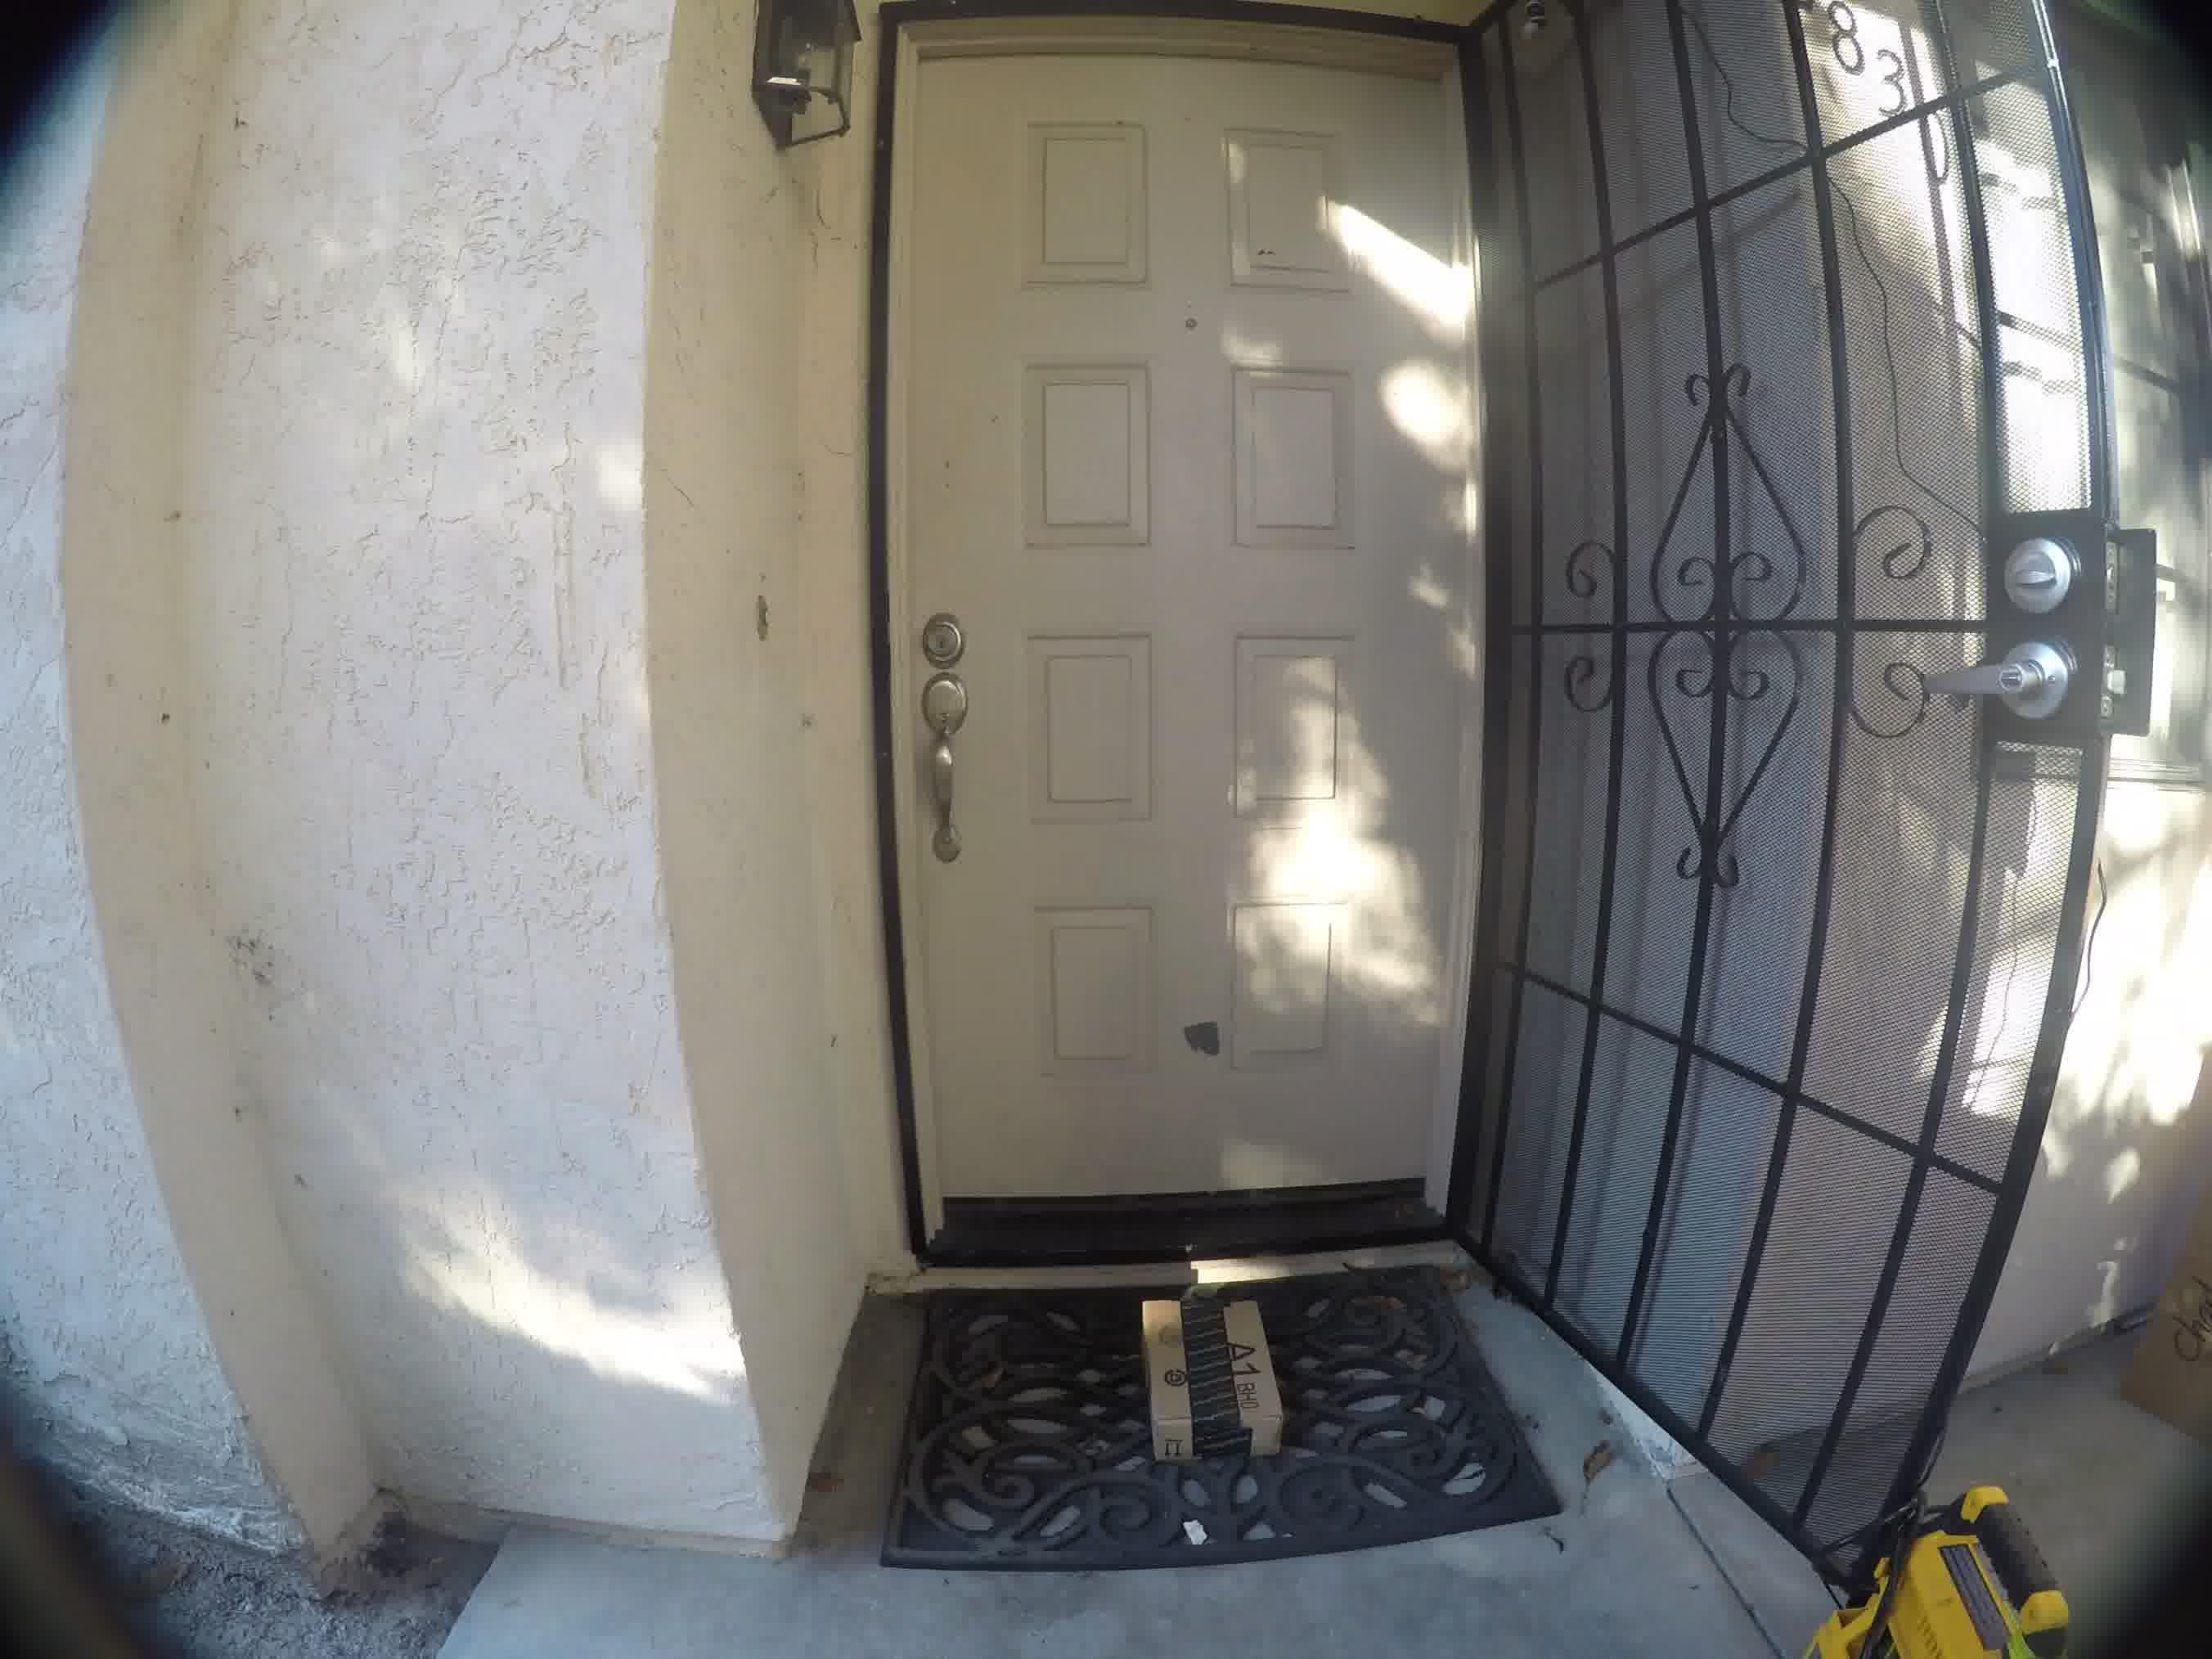box: (1122, 1283, 1305, 1460)
